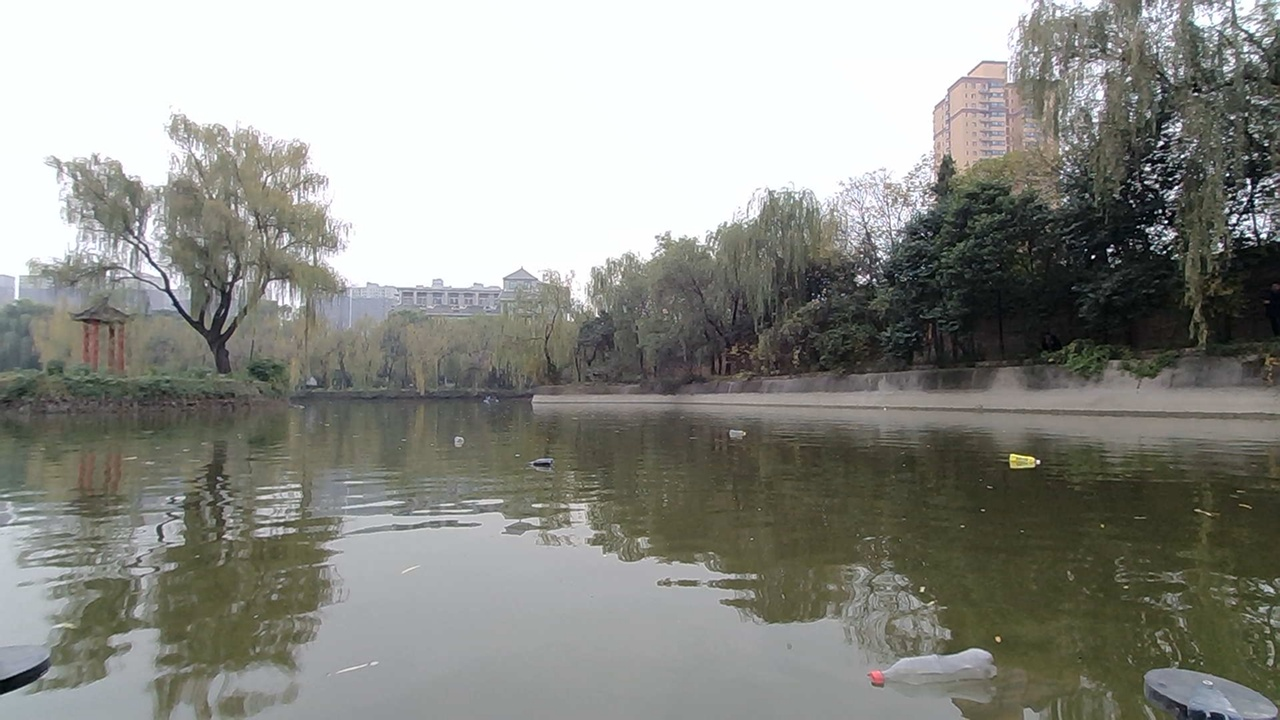bottle: (885, 634, 966, 706), (524, 434, 585, 475), (453, 418, 501, 449), (1006, 443, 1039, 477), (716, 416, 755, 440)
